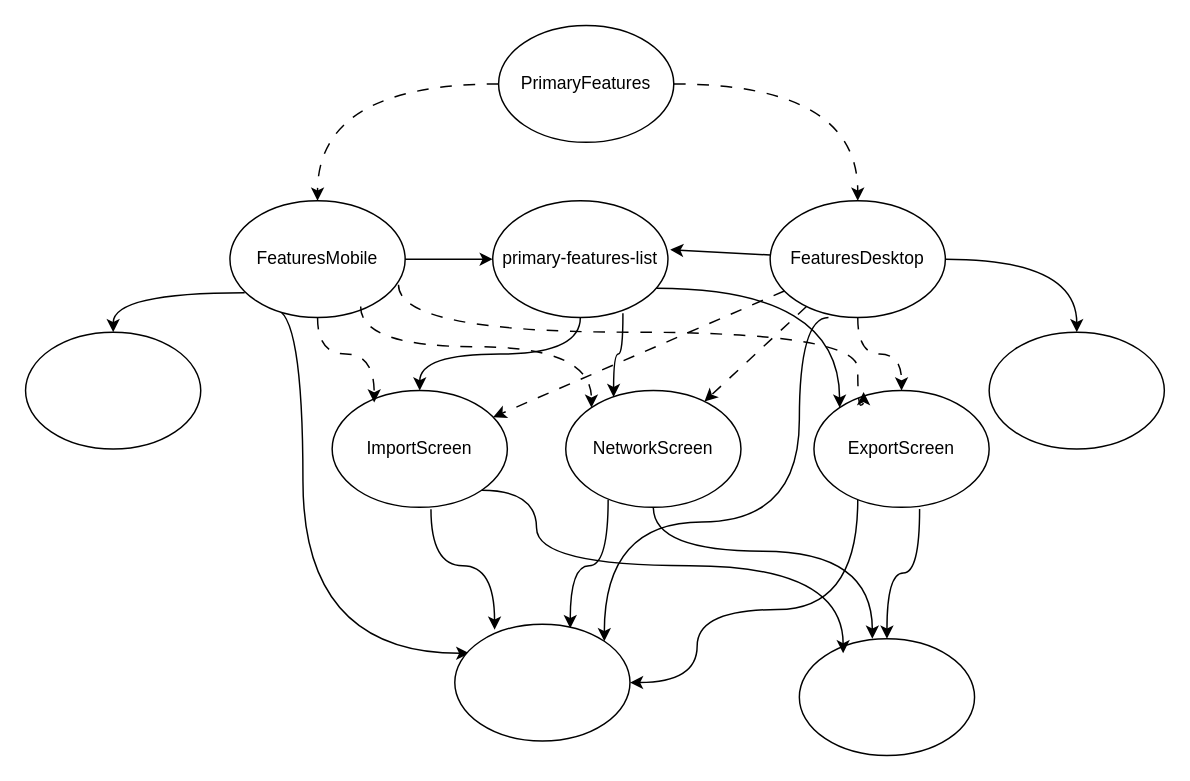
Image size: 1190x781. Some labels were removed from this diagram. The centre of each missing label's shape, as x and y in pixels:
exampleNetwork: point (886, 696)
motionConfig: point (541, 682)
useActiveSlide: point (112, 390)
usePrevious: point (1076, 390)
